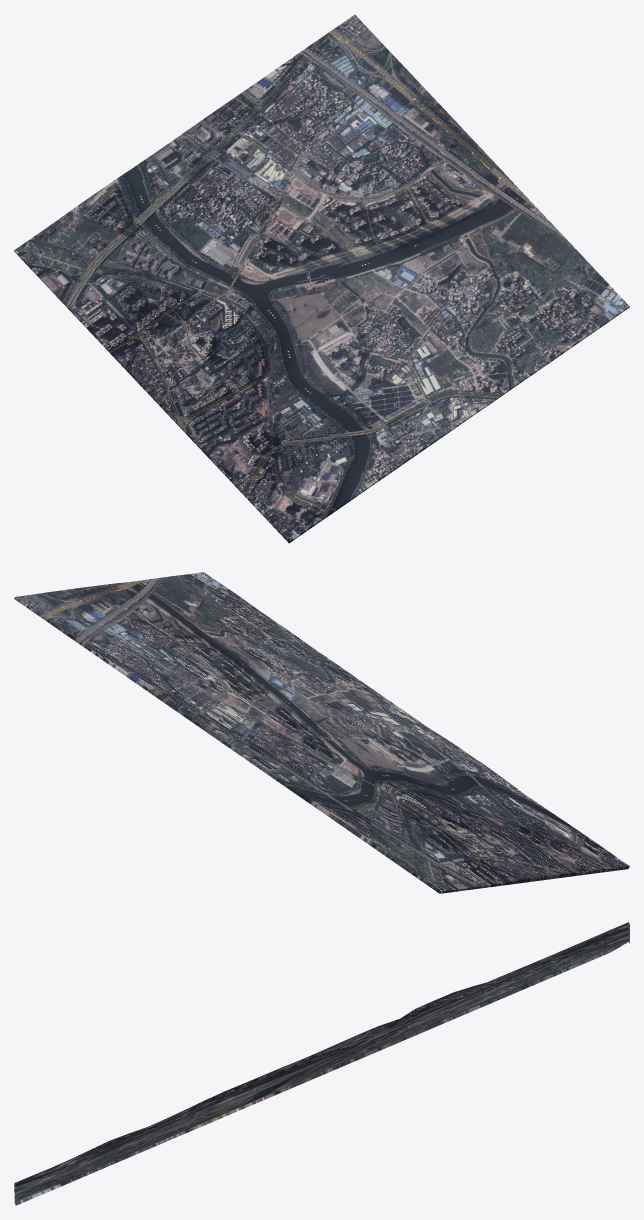
The picture shows the model from 3 angles, top to bottom: view 1: azimuth 30°, elevation 25°; view 2: azimuth 150°, elevation 25°; view 3: azimuth 270°, elevation 25°; orthographic projection. The views are drawn at different scales.
Parts seen in each view (by area): view 1: 2_4_0; view 2: 2_4_0; view 3: 2_4_0.
Part boxes in pixels (x1=…): 2_4_0: x1=14, y1=14, x2=629, y2=543; 2_4_0: x1=14, y1=572, x2=629, y2=893; 2_4_0: x1=14, y1=922, x2=629, y2=1205.
Size of the model in its own units: 2449 by 1773 by 2245.
Materials: 1 (1 with a texture image).
